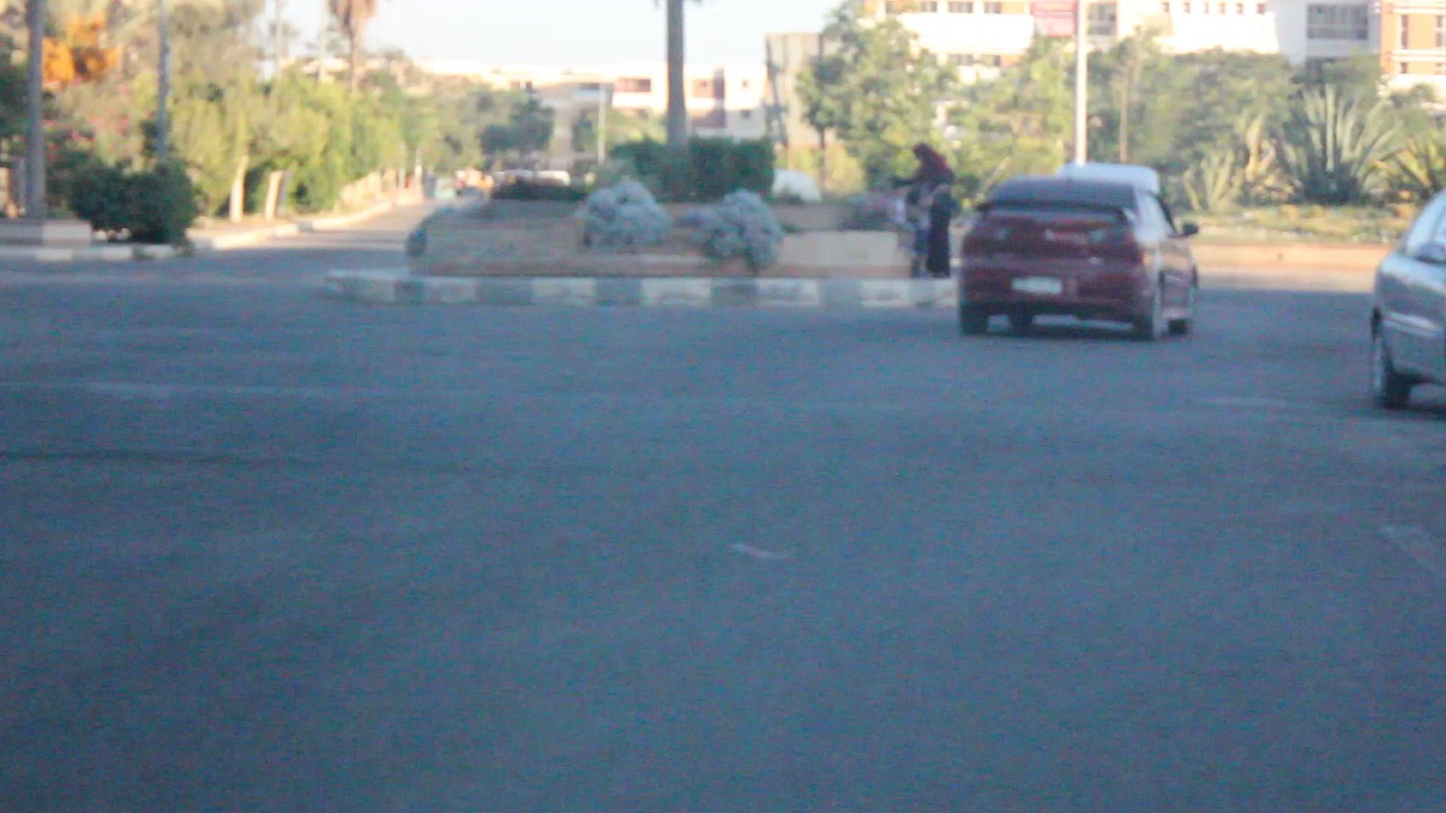Bump: (0, 369, 1446, 504)
